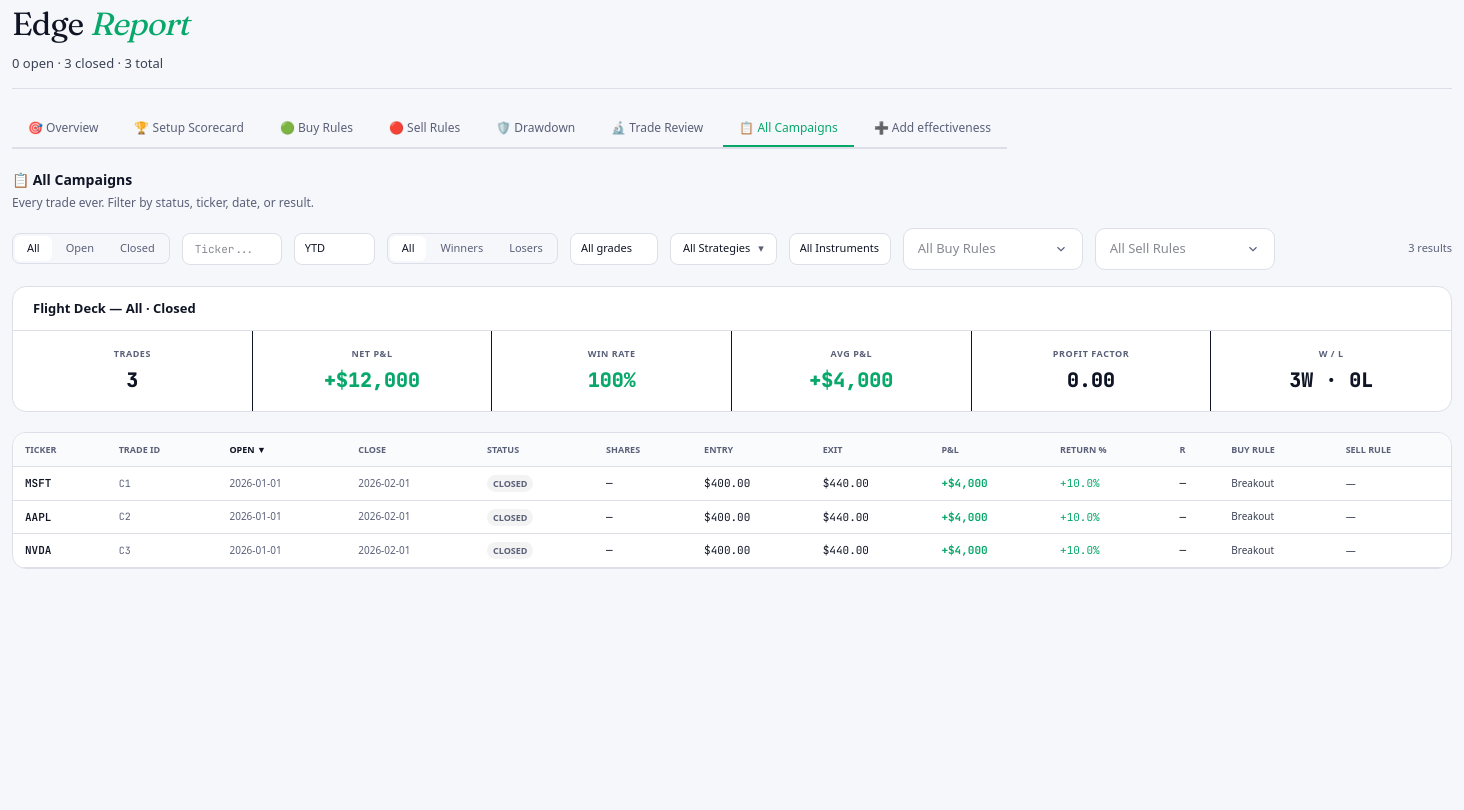
Analytics — All Campaigns filters › Strategy filter narrows visible rows and lists inactive strategies with '(inactive)' suffix
The image size is (1464, 810).
Expected: the text "MSFT" is shown, [13,466,107,500]
Note: Open the Strategy dropdown.
Click the button "All Strategies ▾": click(723, 248) [670,232,777,264]
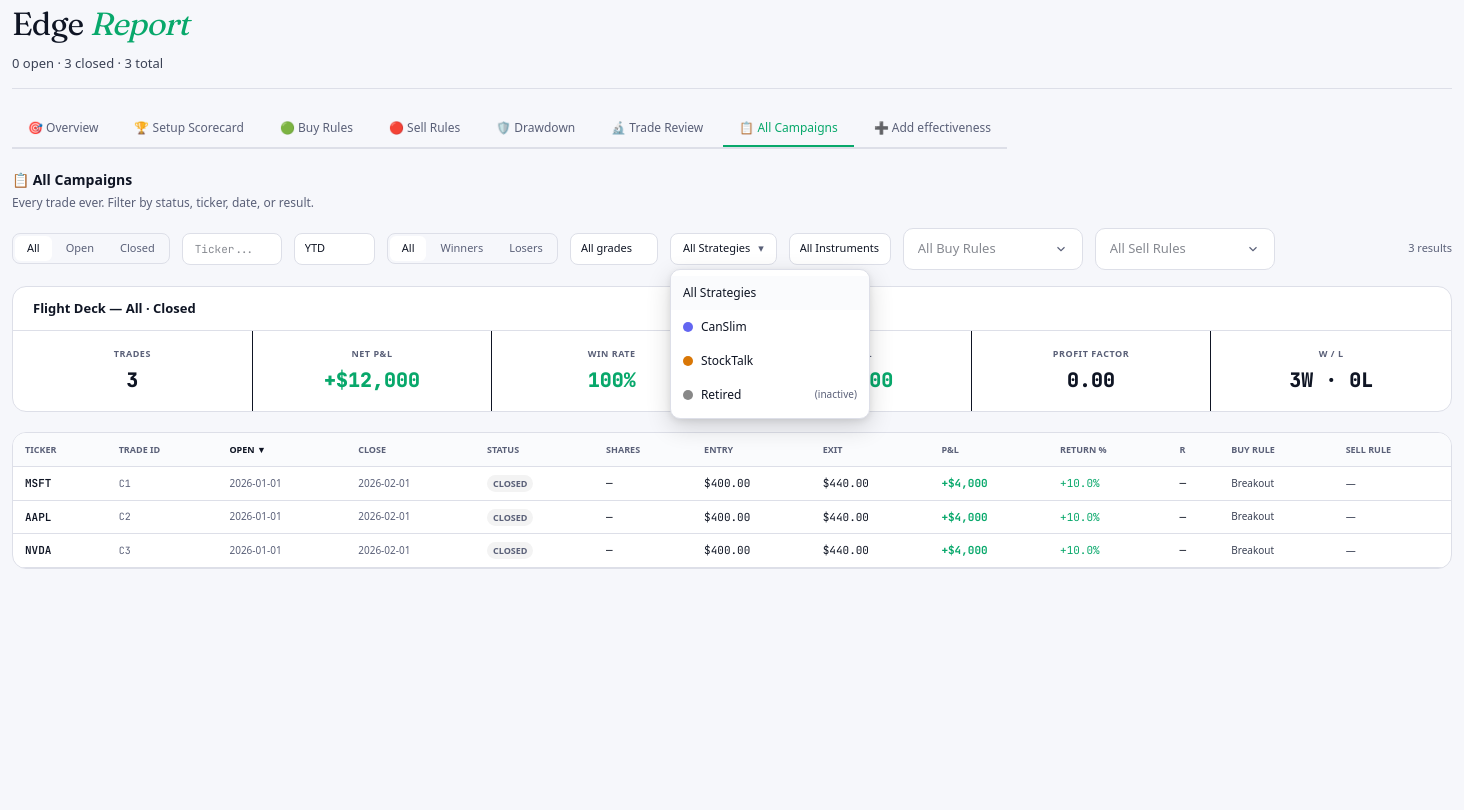
Now the text "(inactive)" is shown, box [815,387,857,402]
Now the text "Retired" is shown, box [701,386,741,404]
Note: Pick StockTalk → table narrows to two rows.
Click the button "StockTalk": click(770, 360) [671,344,869,378]
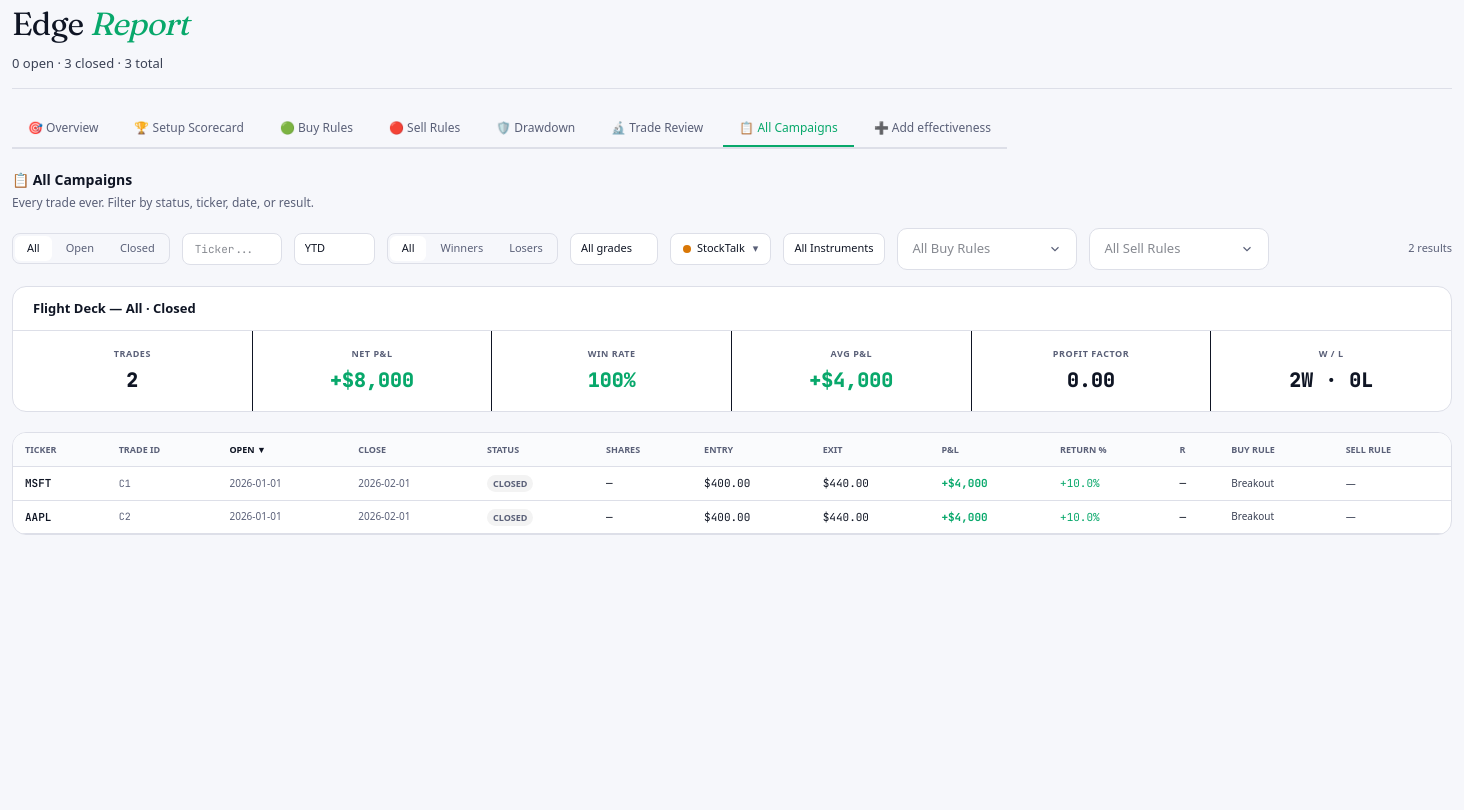
Expected: the text "MSFT" is shown, [13,466,107,500]
Now the text "NVDA" is gone
